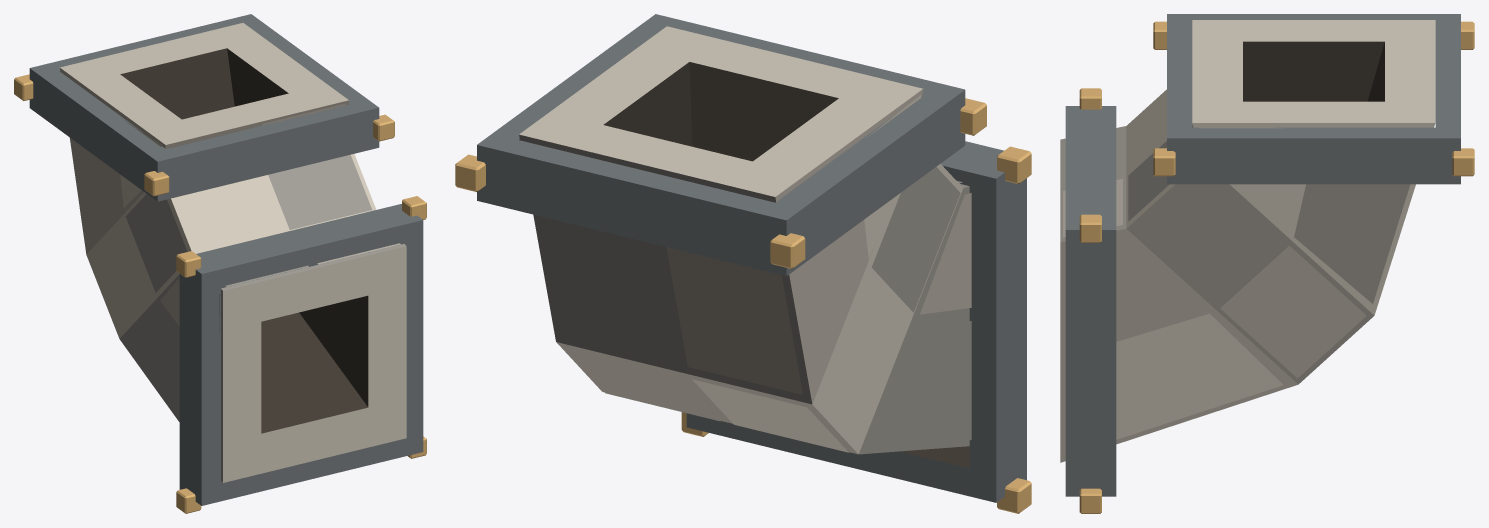
The model's file is chimney_bend_down.gltf.
The picture shows the model from 3 angles, left to right: view 1: azimuth 30°, elevation 25°; view 2: azimuth 150°, elevation 25°; view 3: azimuth 270°, elevation 25°; orthographic projection. The views are drawn at different scales.
Bounding box in the file's own units: 0.634 × 0.817 × 0.817.
